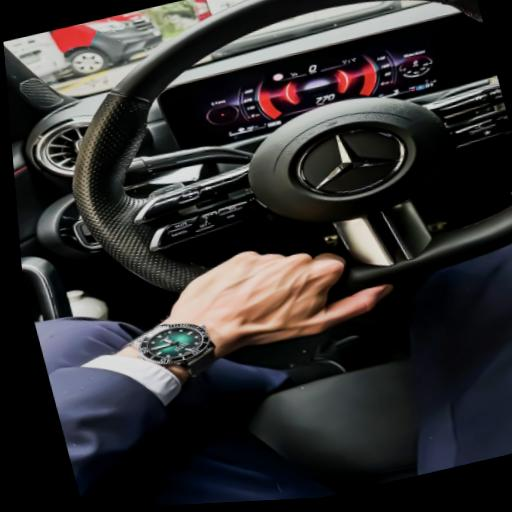Hands-on-the-Wheel: (60, 187, 419, 394)
